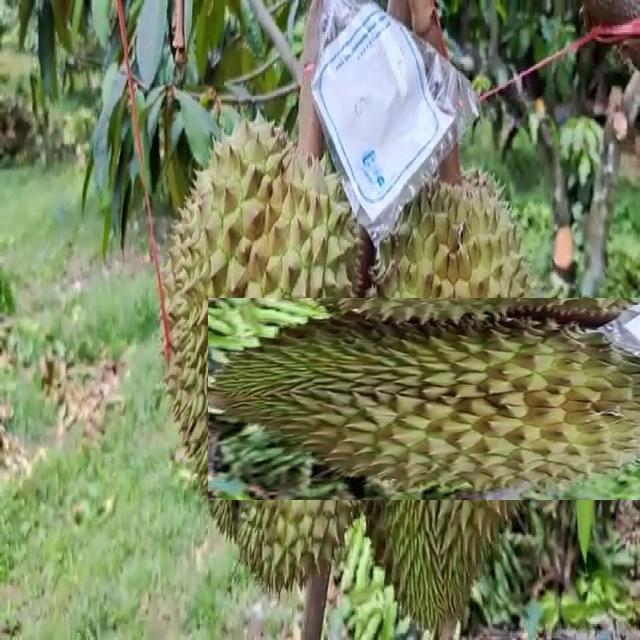durian: (276, 229, 617, 569), (154, 97, 378, 598)
